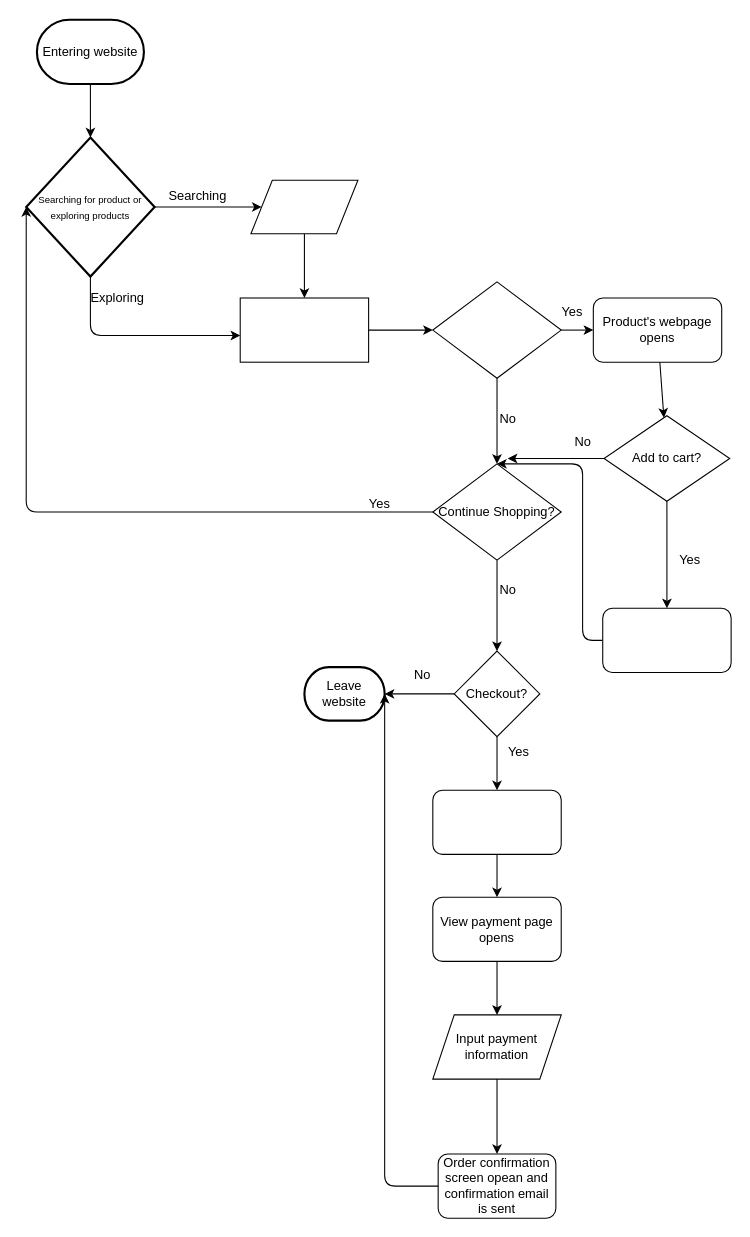
This 750x1237 diagram has some shape labels left out. Each missing label, with the centre of its shape:
Added to cart confirmation shows: (666,639)
Input name: (304,206)
Look over products: (304,329)
View cart page opens: (496,821)
View specific product?: (496,329)
